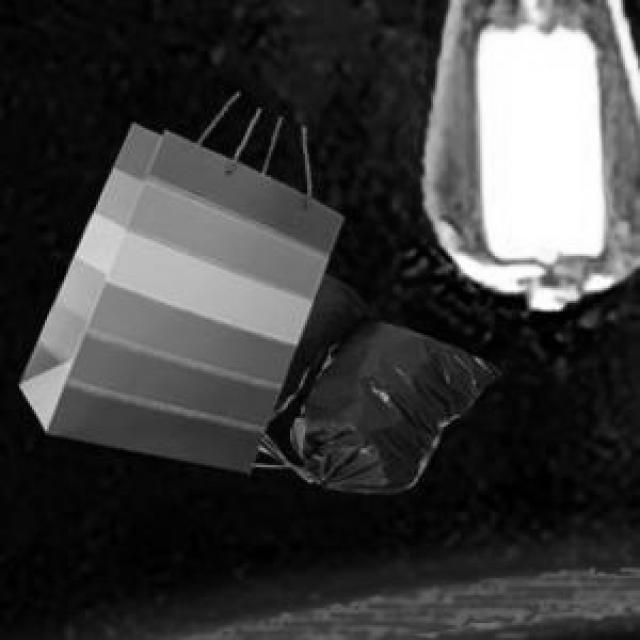miscellaneous trash: (267, 269, 495, 489)
paper: (15, 120, 339, 469)
